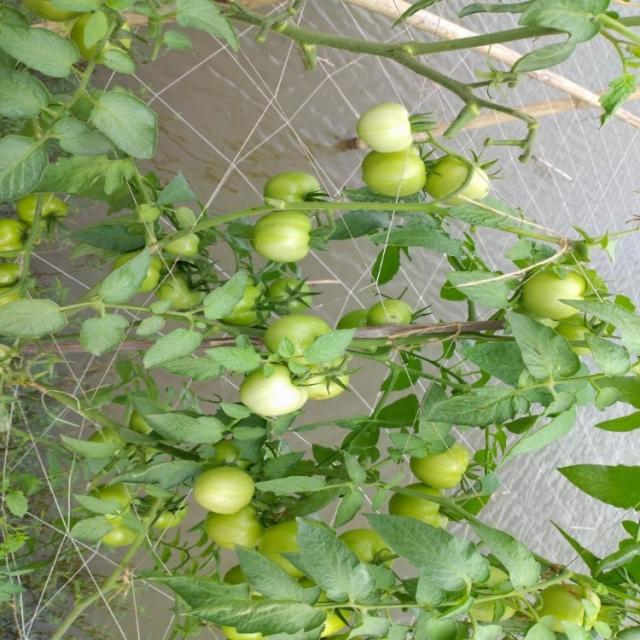tomato: (189, 463, 276, 524), (422, 150, 502, 215), (361, 152, 435, 210), (250, 364, 315, 430), (353, 89, 417, 152), (537, 586, 609, 640), (523, 264, 584, 327), (384, 481, 462, 530), (250, 213, 321, 263), (256, 157, 321, 211), (66, 19, 135, 68), (332, 526, 400, 573), (13, 186, 80, 233), (418, 437, 474, 491), (204, 512, 276, 554), (266, 273, 324, 320), (307, 362, 363, 409), (366, 297, 423, 342), (165, 268, 214, 317), (1, 207, 39, 269), (269, 311, 319, 354), (146, 490, 191, 536), (98, 524, 135, 557)
